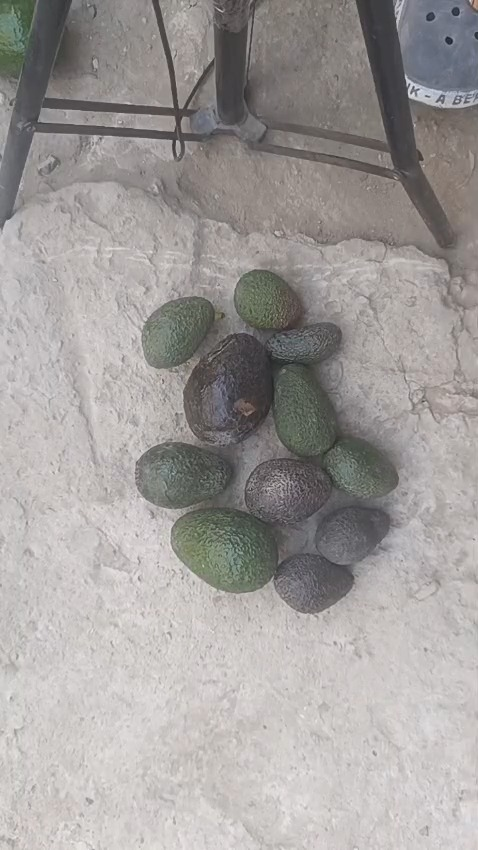Primera: (187, 335, 276, 446), (174, 509, 280, 593)
Segunda: (271, 366, 340, 460), (137, 444, 235, 510), (245, 459, 334, 527)
Tercera: (143, 296, 215, 369), (322, 440, 399, 508), (274, 552, 355, 614), (315, 507, 392, 568), (234, 269, 303, 333), (266, 326, 344, 370)
